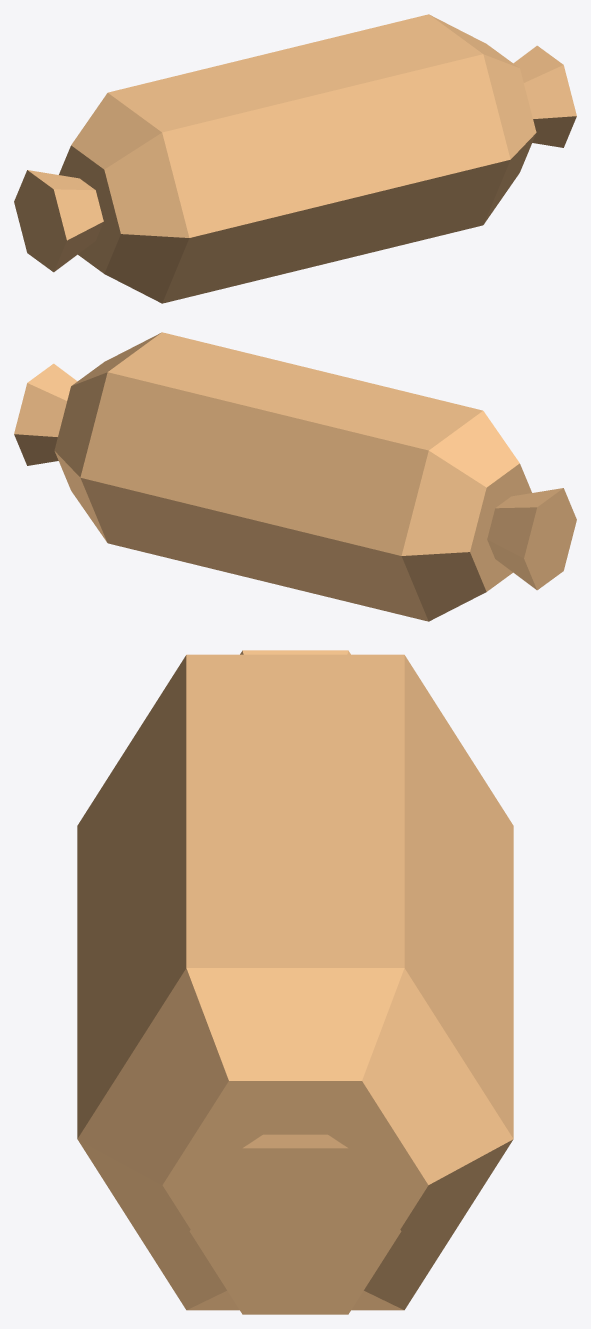
The model's file is sausage.fbx.
3 views of the same model, one above another, from view 1: azimuth 30°, elevation 25°; view 2: azimuth 150°, elevation 25°; view 3: azimuth 270°, elevation 25° (orthographic). The views are drawn at different scales.
Visible parts, largest first — view 1: sausage; view 2: sausage; view 3: sausage.
Part boxes in pixels (bbox=[...]): sausage: bbox=[14, 14, 576, 303]; sausage: bbox=[14, 332, 576, 621]; sausage: bbox=[77, 650, 513, 1314].
Bounding box in the file's own units: 3.71 × 1.19 × 1.37.
